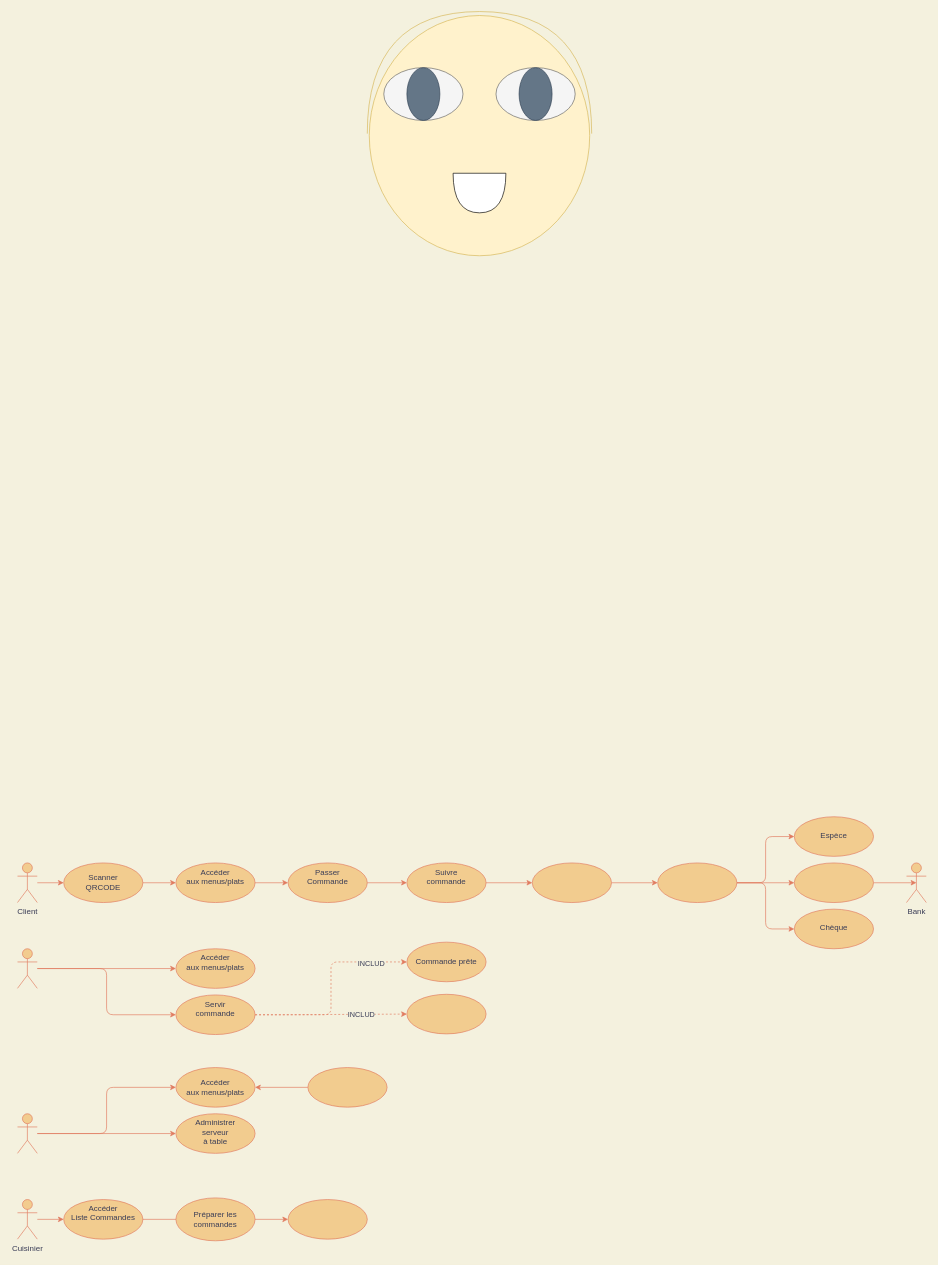
Some shapes in this 938 by 1265 pixel diagram are drawn without their labels. Each missing label, with the centre of its shape:
"CB" belongs at point 834,882.
"Changer la liste des plats" belongs at point 347,1087.
"Gérant" belongs at point 27,1133.
"Marquer les commandes comme prêtes" belongs at point 327,1219.
"Payer" belongs at point 697,882.
"Prendre Commande" belongs at point 446,1014.
"Réception commande" belongs at point 571,882.
"Serveurs" belongs at point 27,968.
